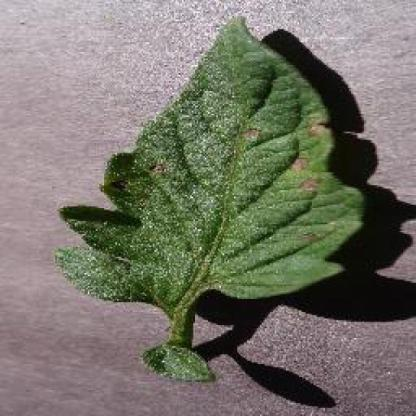Tomato_Blight: (54, 16, 366, 313)
